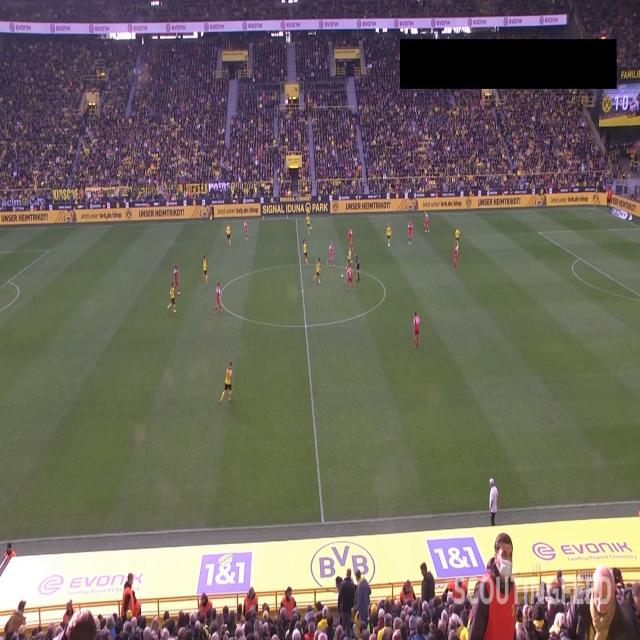ball: (341, 273, 344, 279)
